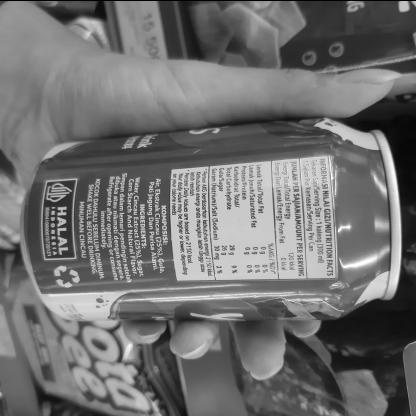alumunium_can: (12, 108, 410, 336)
